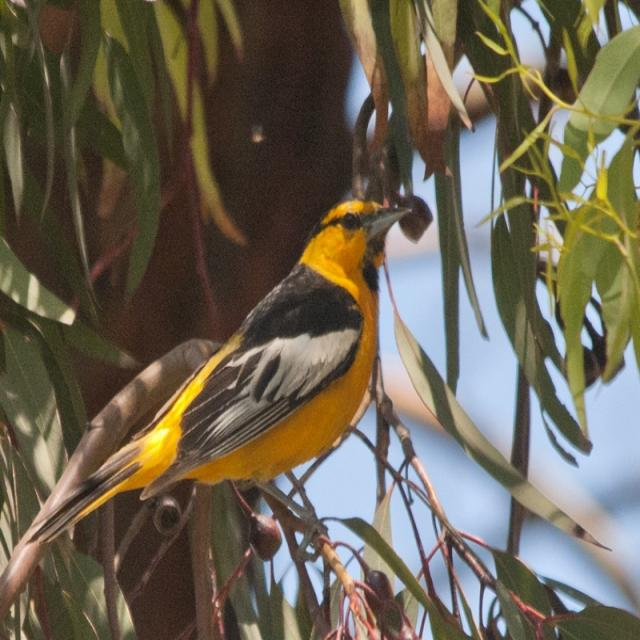bird: (23, 147, 414, 567)
